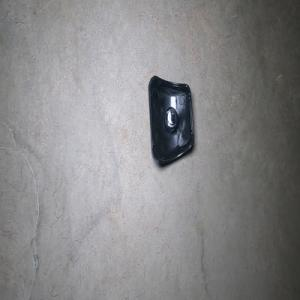LuggagePart: (147, 74, 194, 167)
